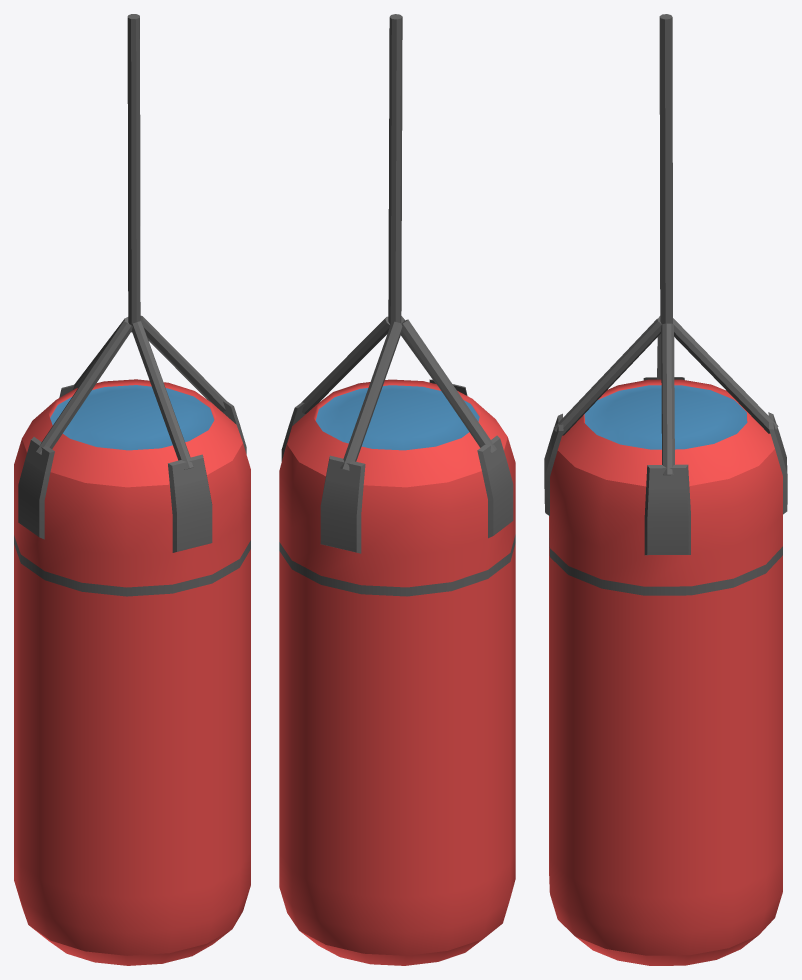
File: Punching_Bag.fbx
3 views of the same model, side by side, from view 1: azimuth 30°, elevation 25°; view 2: azimuth 150°, elevation 25°; view 3: azimuth 270°, elevation 25° (orthographic).
Visible parts, largest first — view 1: Punching_Bag; view 2: Punching_Bag; view 3: Punching_Bag.
Part boxes in pixels (left/top/right/bottom): Punching_Bag: left=14, top=14, right=250, bottom=965; Punching_Bag: left=279, top=14, right=515, bottom=965; Punching_Bag: left=544, top=14, right=787, bottom=965.
Size of the model in its own units: 1.78 by 7.43 by 1.78.
Materials: 1 (1 with a texture image).
